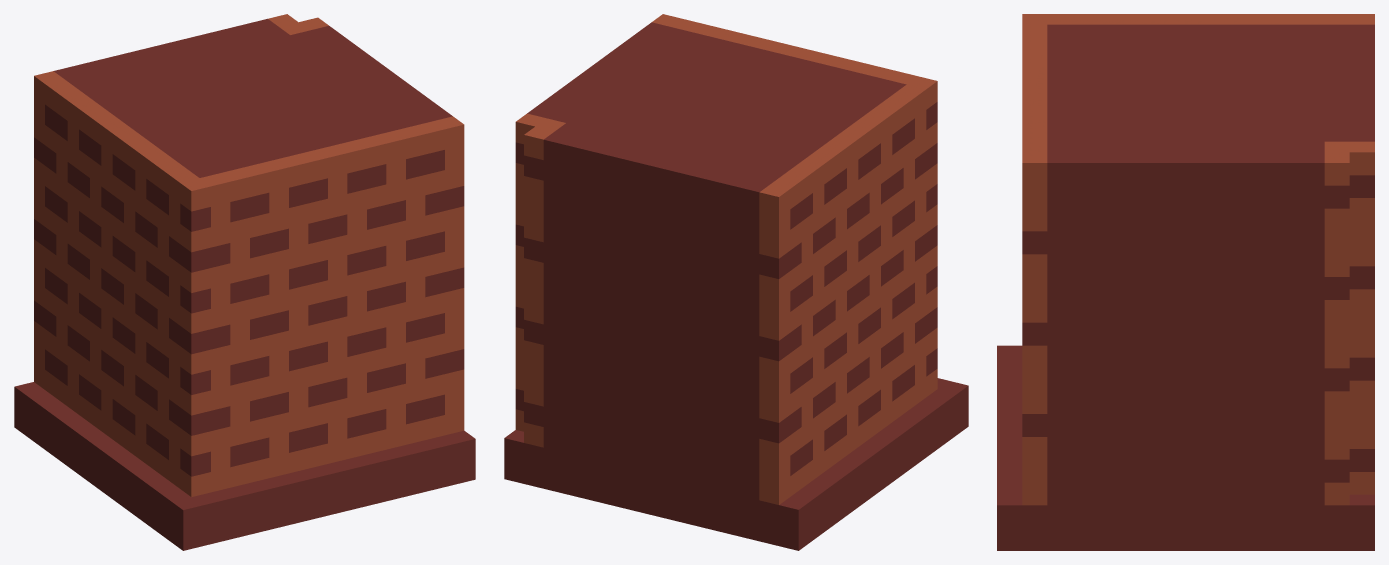
File: dungeon_b_b_inner_wall_corner_a.obj
3 views of the same model, side by side, from view 1: azimuth 30°, elevation 25°; view 2: azimuth 150°, elevation 25°; view 3: azimuth 270°, elevation 25° (orthographic). The views are drawn at different scales.
Size of the model in its own units: 1.5 by 1.7 by 1.5.
1 material, 1 textured.
